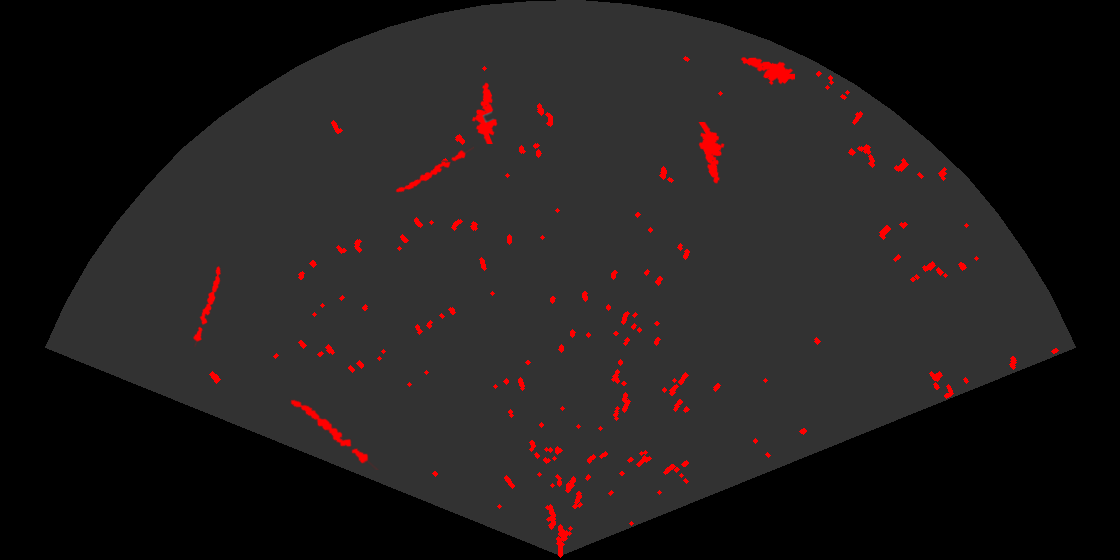chain: (289, 398, 380, 470), (394, 145, 474, 194), (192, 264, 223, 347)
frogman: (470, 81, 499, 144), (697, 122, 726, 185), (740, 56, 795, 87)
